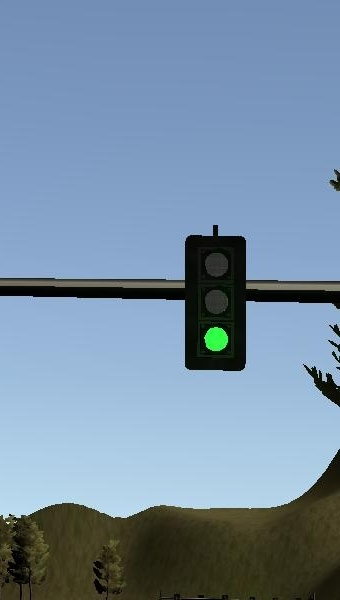Green: (182, 234, 247, 371)
